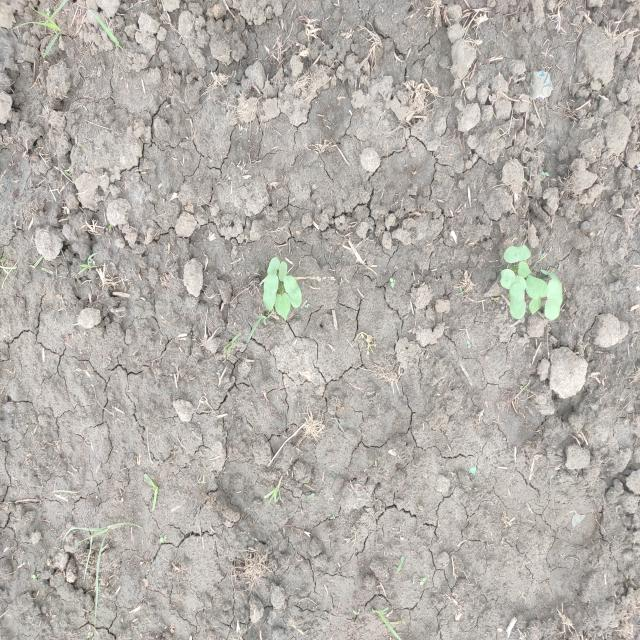seedling_s4: (545, 278, 563, 320), (283, 275, 302, 308), (509, 283, 526, 319), (263, 273, 279, 311), (526, 275, 548, 300), (500, 269, 526, 290), (504, 245, 530, 263), (275, 293, 291, 321), (517, 261, 532, 278), (267, 257, 280, 275), (529, 298, 542, 315), (278, 261, 287, 281)
